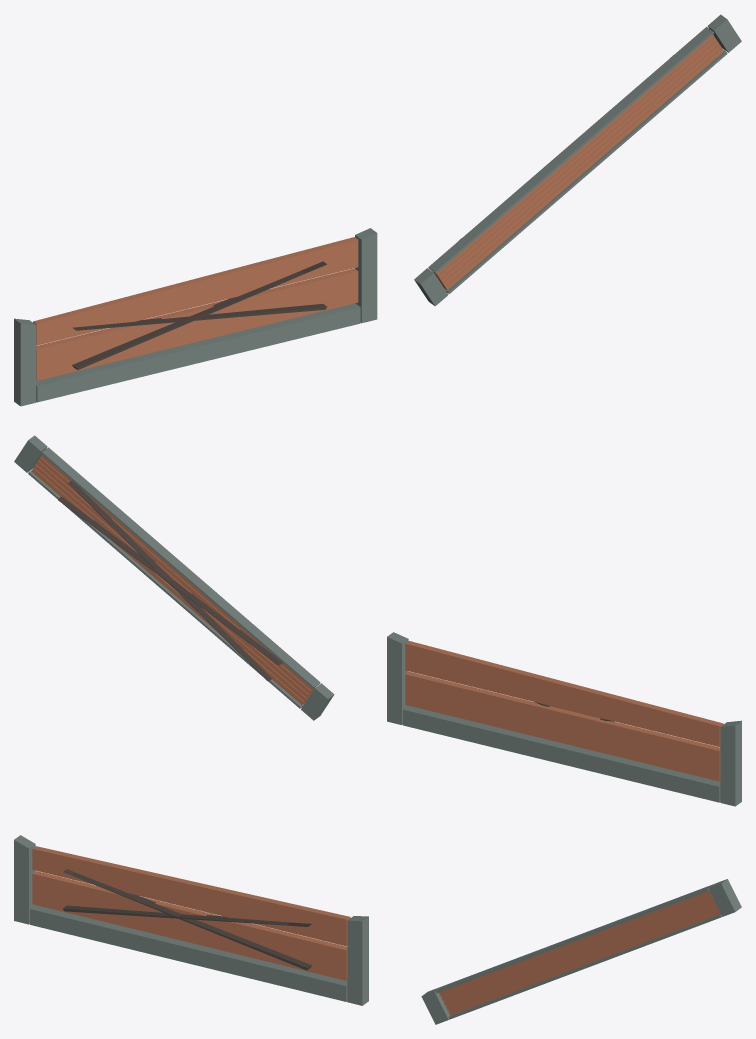
The model's file is SM_PuertaViaDoble_v2_Tablones_e2_MuyDanado_LOD1.fbx.
The picture shows the model from 3 angles, top to bottom: view 1: azimuth 30°, elevation 25°; view 2: azimuth 150°, elevation 25°; view 3: azimuth 330°, elevation 25°; orthographic projection. The views are drawn at different scales.
Parts seen in each view (by area): view 1: Hoja_O, Hoja_E; view 2: Hoja_O, Hoja_E; view 3: Hoja_O, Hoja_E.
Boxes of the visible parts, <box> form: Hoja_O: <box>14,228,377,406</box>; Hoja_E: <box>414,14,741,306</box>; Hoja_O: <box>387,632,741,806</box>; Hoja_E: <box>14,435,334,720</box>; Hoja_O: <box>14,835,368,1005</box>; Hoja_E: <box>421,879,741,1024</box>.
Size of what is drawn, in the model's own units: 7.53 by 2.13 by 0.37.
